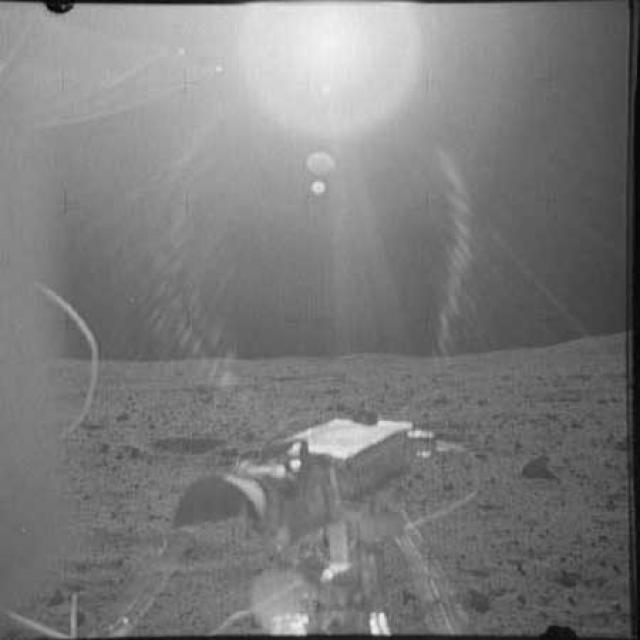crater: (127, 426, 238, 464)
rock: (511, 448, 557, 487), (456, 582, 502, 609), (112, 404, 133, 424)
